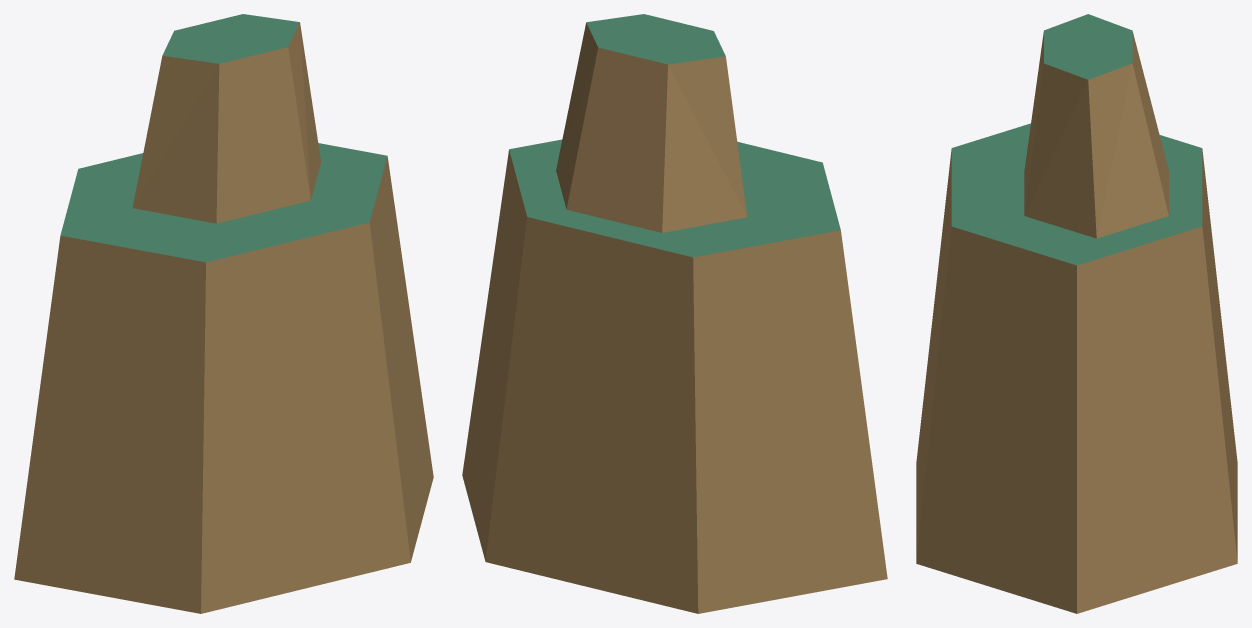
The model's file is Rock_Small_Mesa_Eroded_Moss_Grass_12.FBX.
The picture shows the model from 3 angles, left to right: view 1: azimuth 30°, elevation 25°; view 2: azimuth 150°, elevation 25°; view 3: azimuth 270°, elevation 25°; orthographic projection. The views are drawn at different scales.
Parts seen in each view (by area): view 1: Rock_Small_Mesa_Eroded_Moss_Grass_12; view 2: Rock_Small_Mesa_Eroded_Moss_Grass_12; view 3: Rock_Small_Mesa_Eroded_Moss_Grass_12.
Part boxes in pixels (x1,y1,x2,y2): Rock_Small_Mesa_Eroded_Moss_Grass_12: [14, 14, 433, 613]; Rock_Small_Mesa_Eroded_Moss_Grass_12: [462, 14, 887, 613]; Rock_Small_Mesa_Eroded_Moss_Grass_12: [916, 14, 1237, 613].
Size of the model in its own units: 1903 by 2090 by 1288.
